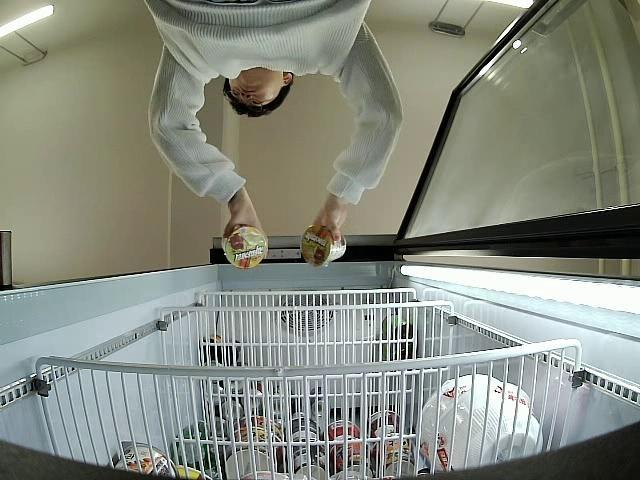04_chapagetti_S: (222, 224, 268, 270), (300, 224, 348, 266)
